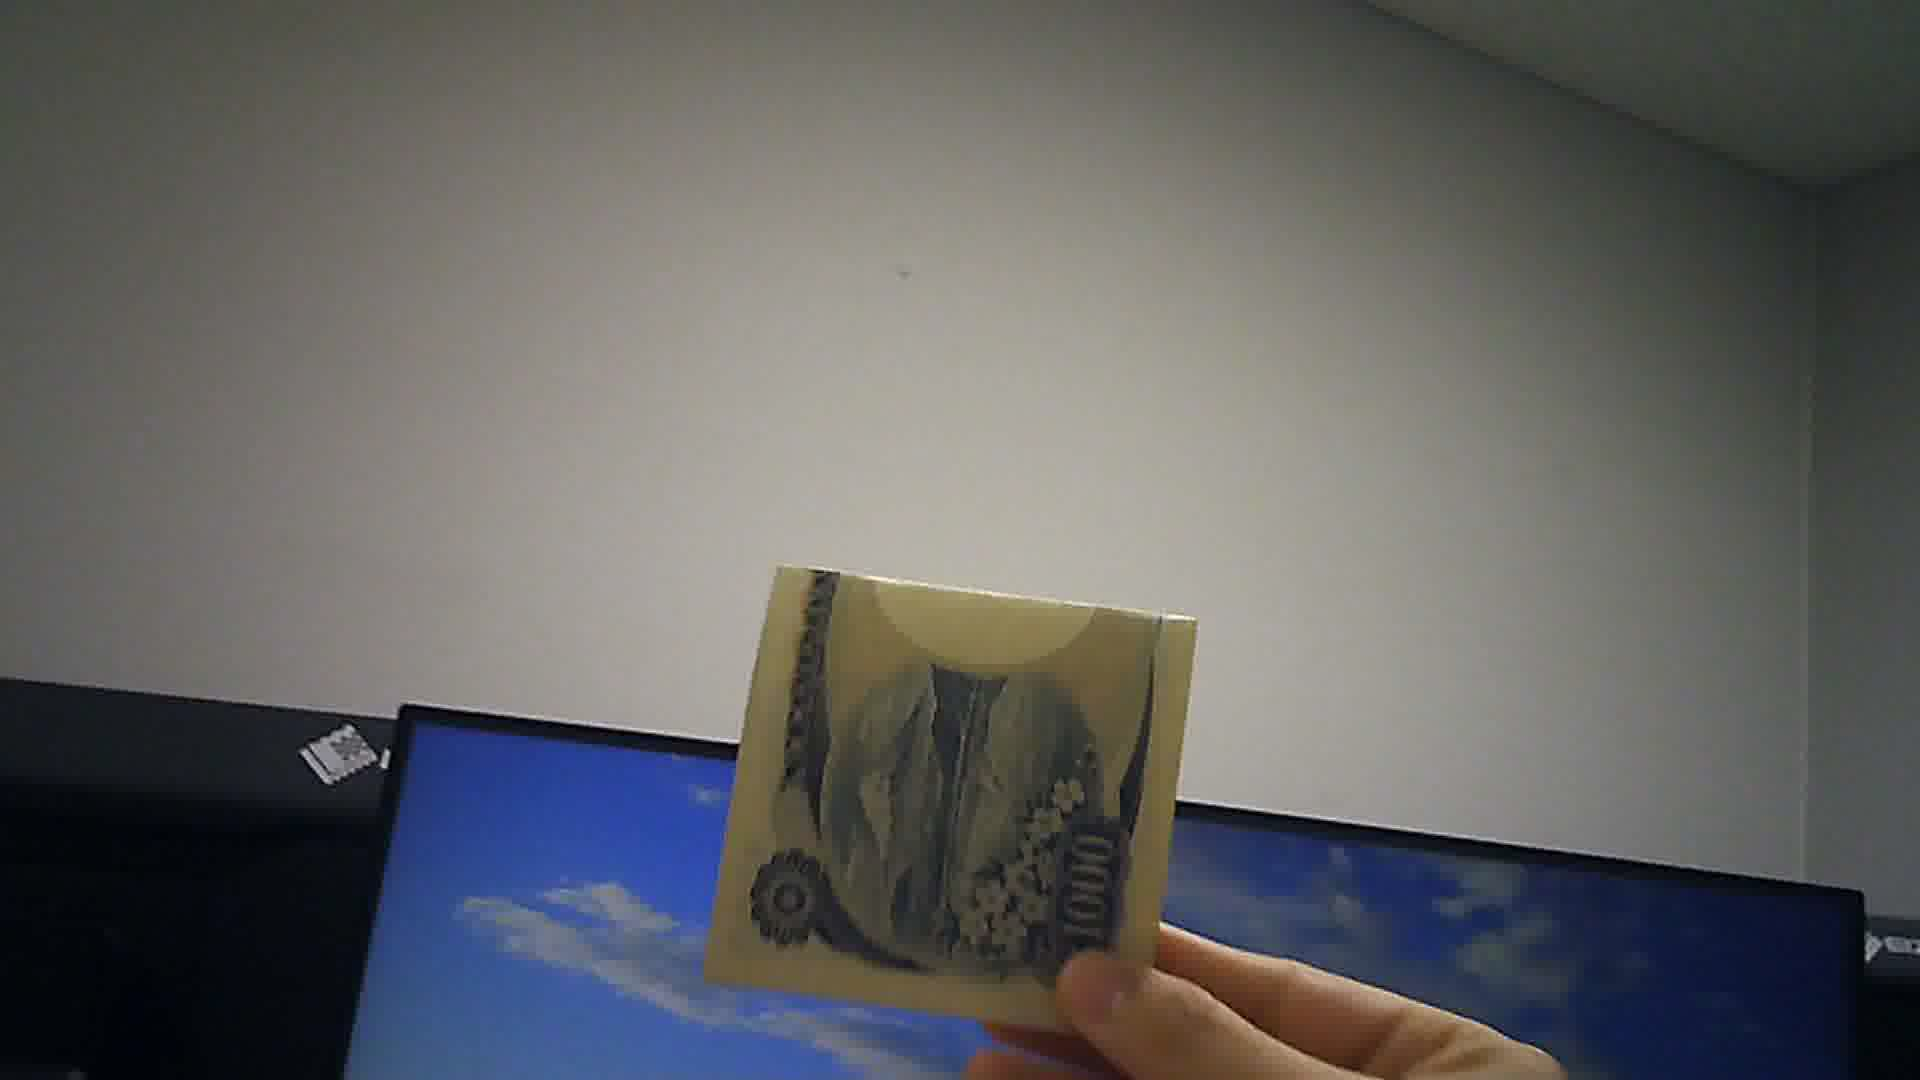1,000 Yen: (705, 551, 1191, 1052)
